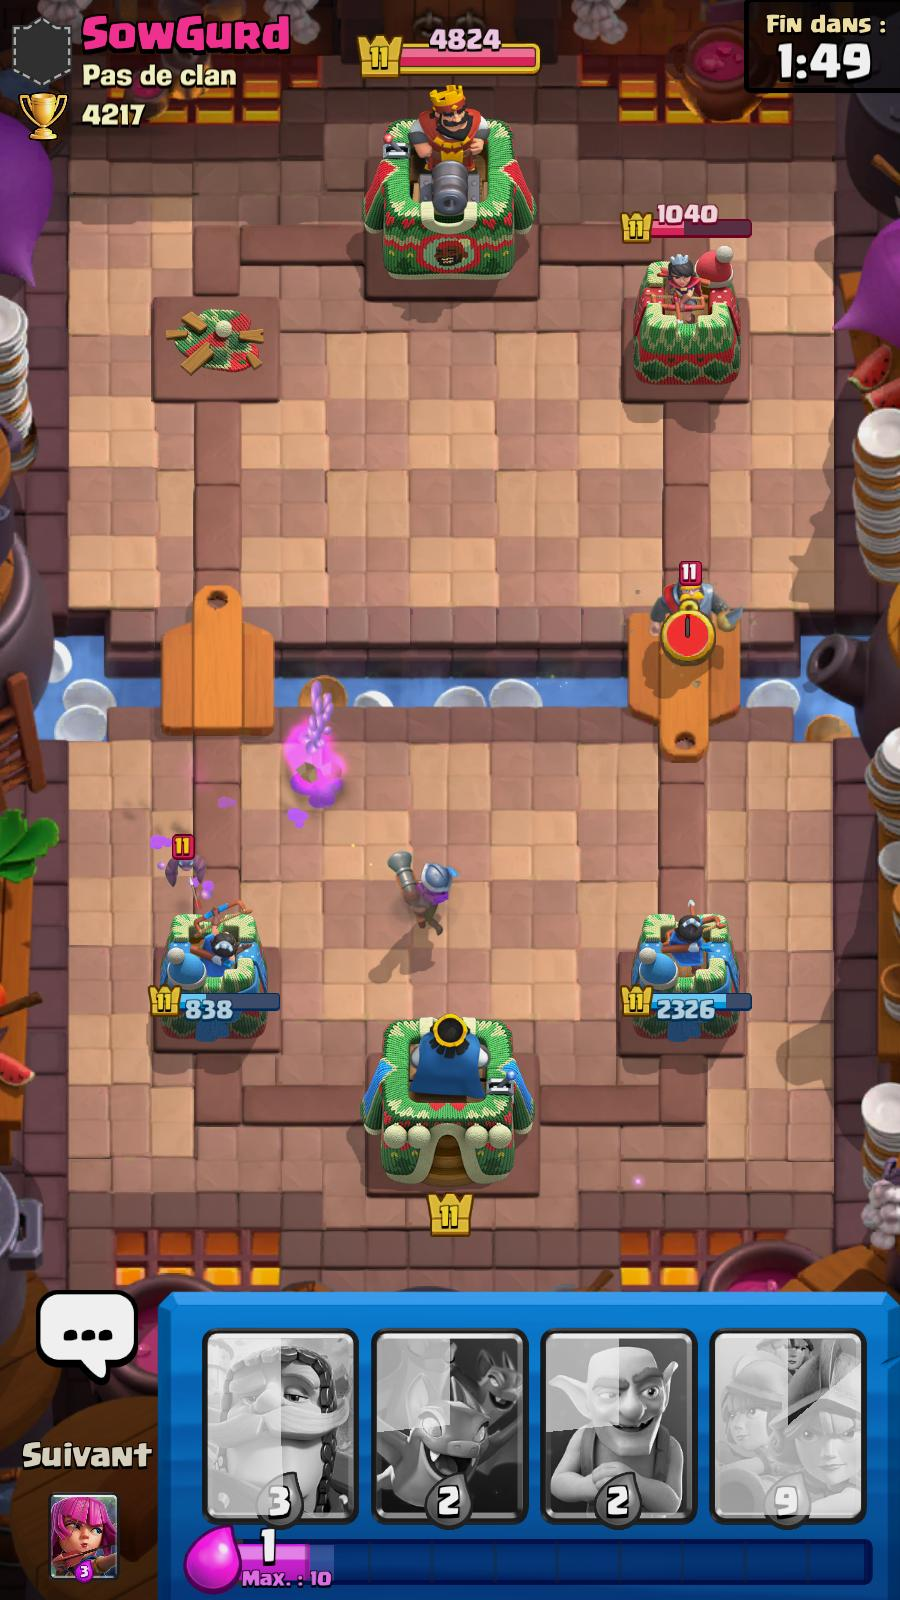bat: (163, 833, 204, 881)
chevalier: (655, 555, 746, 633)
mousquetaire: (385, 848, 456, 936)
